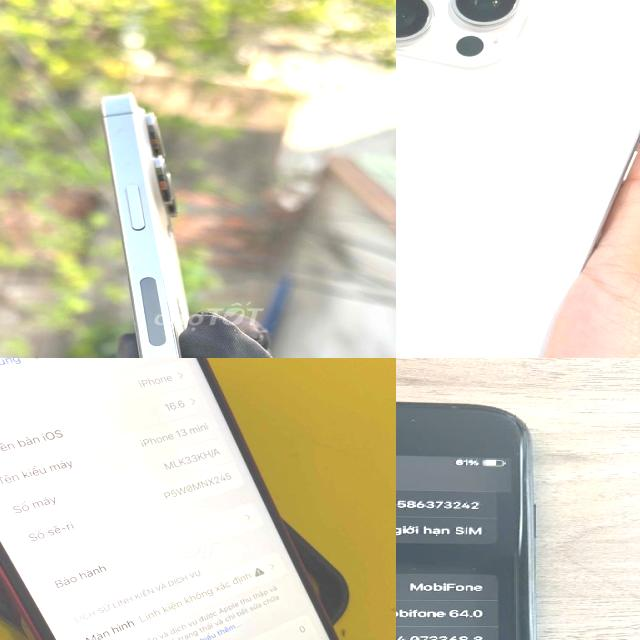gen_12_13: (0, 358, 354, 640)
gen_14: (90, 85, 256, 358)
gen_16: (396, 0, 640, 358)
gen_7_8: (396, 391, 542, 640)
scratch: (402, 399, 518, 432)
